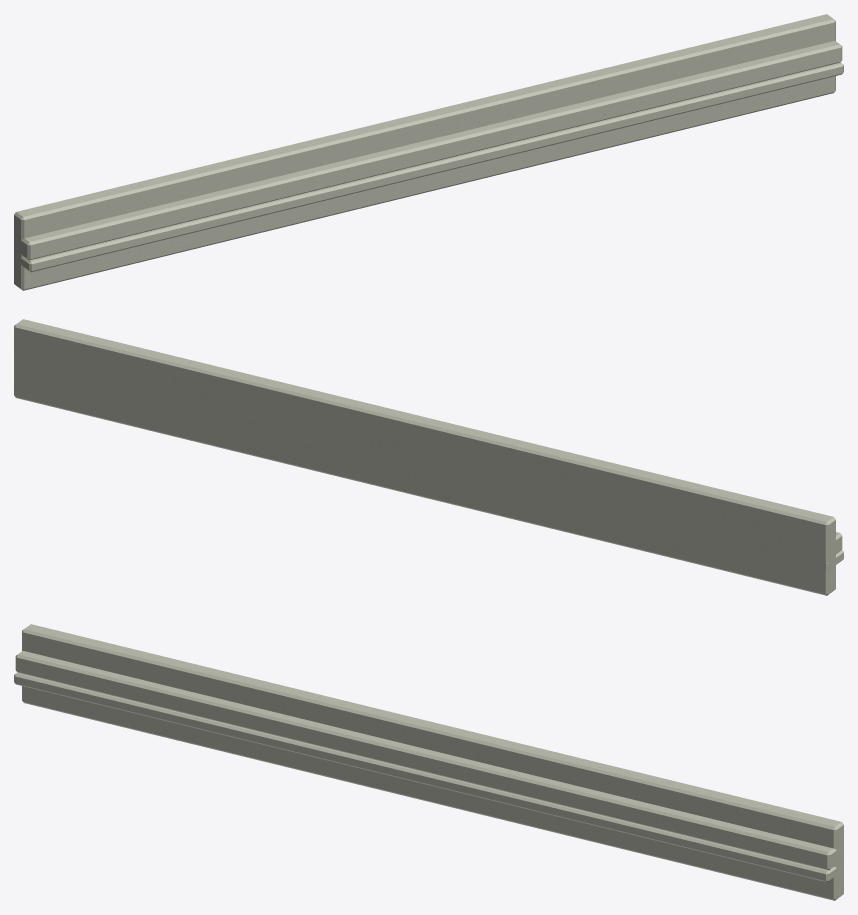
The model's file is MD_15_Cornice.fbx.
The picture shows the model from 3 angles, top to bottom: view 1: azimuth 30°, elevation 25°; view 2: azimuth 150°, elevation 25°; view 3: azimuth 330°, elevation 25°; orthographic projection.
Parts seen in each view (by area): view 1: MD_15_Cornice_profile_band, MD_15_Cornice_profile_band.001, MD_15_Cornice_profile_band.002; view 2: MD_15_Cornice_profile_band, MD_15_Cornice_profile_band.001, MD_15_Cornice_profile_band.002; view 3: MD_15_Cornice_profile_band, MD_15_Cornice_profile_band.001, MD_15_Cornice_profile_band.002.
Part boxes in pixels (x1=…): MD_15_Cornice_profile_band: x1=14, y1=14, x2=835, y2=290; MD_15_Cornice_profile_band.001: x1=14, y1=41, x2=842, y2=260; MD_15_Cornice_profile_band.002: x1=14, y1=62, x2=843, y2=272; MD_15_Cornice_profile_band: x1=14, y1=319, x2=835, y2=595; MD_15_Cornice_profile_band.001: x1=14, y1=348, x2=842, y2=558; MD_15_Cornice_profile_band.002: x1=14, y1=364, x2=843, y2=570; MD_15_Cornice_profile_band: x1=22, y1=624, x2=843, y2=900; MD_15_Cornice_profile_band.001: x1=15, y1=651, x2=843, y2=870; MD_15_Cornice_profile_band.002: x1=14, y1=672, x2=836, y2=882.
Bounding box in the file's own units: 3 × 0.26 × 0.11.
1 material, 1 textured.
